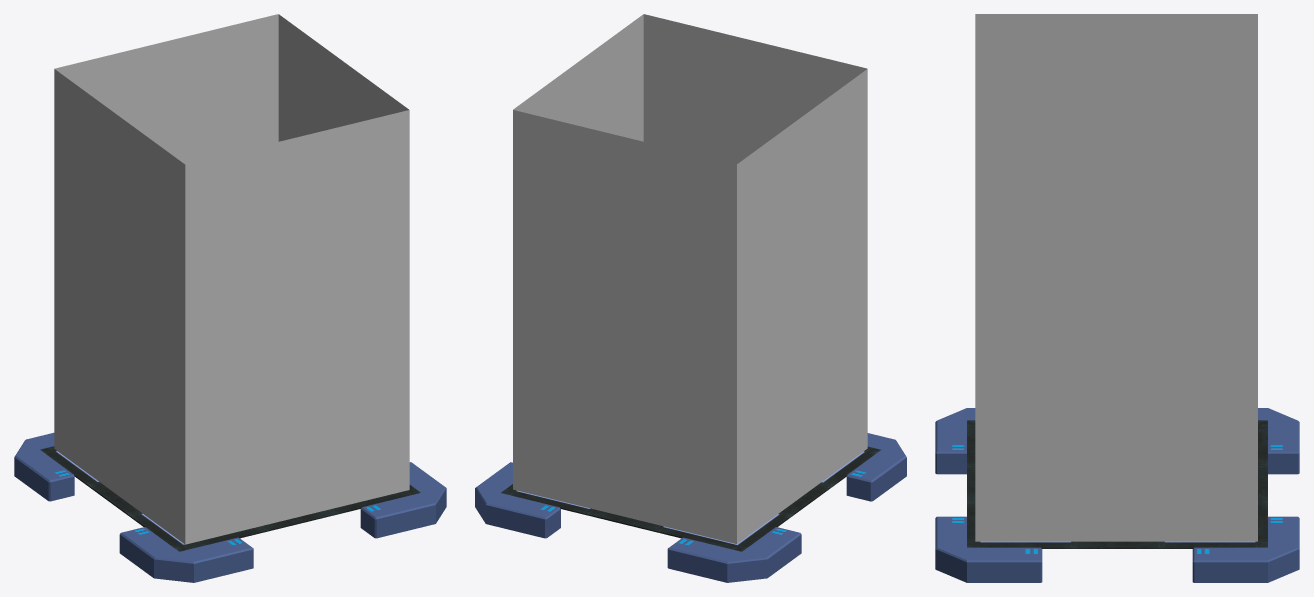
The model's file is SPW0110025.FBX.
The picture shows the model from 3 angles, left to right: view 1: azimuth 30°, elevation 25°; view 2: azimuth 150°, elevation 25°; view 3: azimuth 270°, elevation 25°; orthographic projection. The views are drawn at different scales.
Visible parts, largest first — view 1: smSPW0110025; view 2: smSPW0110025; view 3: smSPW0110025.
Boxes of the visible parts, x1,y1,x2,y2 form: smSPW0110025: [14, 14, 446, 582]; smSPW0110025: [475, 14, 906, 582]; smSPW0110025: [935, 14, 1299, 582].
Bounding box in the file's own units: 244 × 320 × 244.
Materials: 2 (1 with a texture image).
